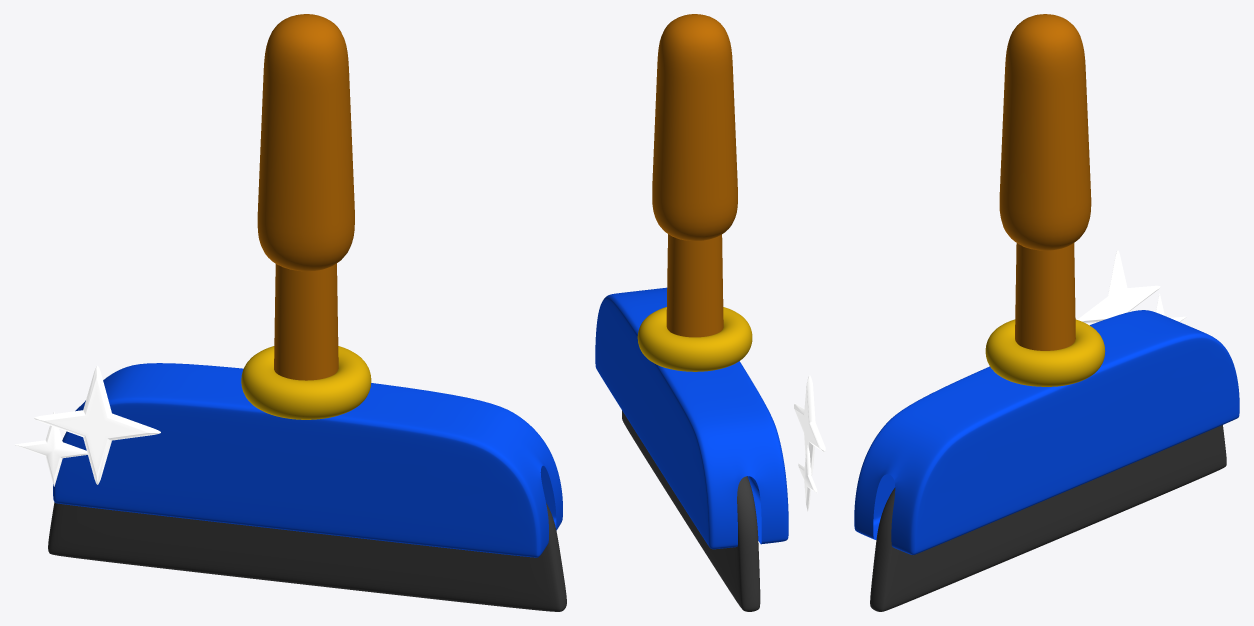
File: 12. Glass Wiper.gltf
3 renders of one model, left to right at view 1: azimuth 30°, elevation 25°; view 2: azimuth 150°, elevation 25°; view 3: azimuth 270°, elevation 25°, orthographic. The views are drawn at different scales.
Visible parts, largest first — view 1: Cube.015, Plane.017, Plane.018, Plane.014, Circle.008, Plane.048; view 2: Cube.015, Plane.018, Plane.014, Circle.008, Plane.017, Plane.048; view 3: Cube.015, Plane.018, Plane.017, Plane.014, Circle.008, Plane.048.
Part boxes in pixels (x1,y1,x2,y2): Cube.015: (53,363,562,557); Plane.017: (48,502,566,611); Plane.018: (257,14,354,271); Plane.014: (274,263,338,380); Circle.008: (241,346,371,419); Plane.048: (14,365,160,486); Cube.015: (595,287,788,549); Plane.018: (652,14,737,241); Plane.014: (666,234,723,337); Circle.008: (637,307,752,371); Plane.017: (622,410,760,611); Plane.048: (794,375,825,511); Cube.015: (854,310,1239,554); Plane.018: (999,14,1091,250); Plane.017: (870,425,1226,611); Plane.014: (1015,243,1075,350); Circle.008: (985,319,1105,386); Plane.048: (1077,250,1186,323).
Bounding box in the file's own units: 3.35 × 4.54 × 3.05.
